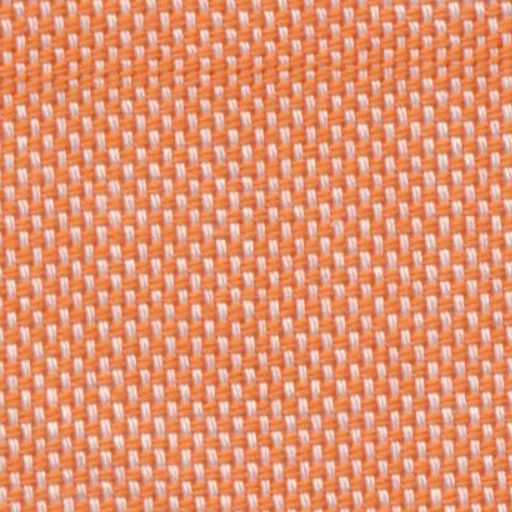TuoSha: (12, 22, 493, 116)
